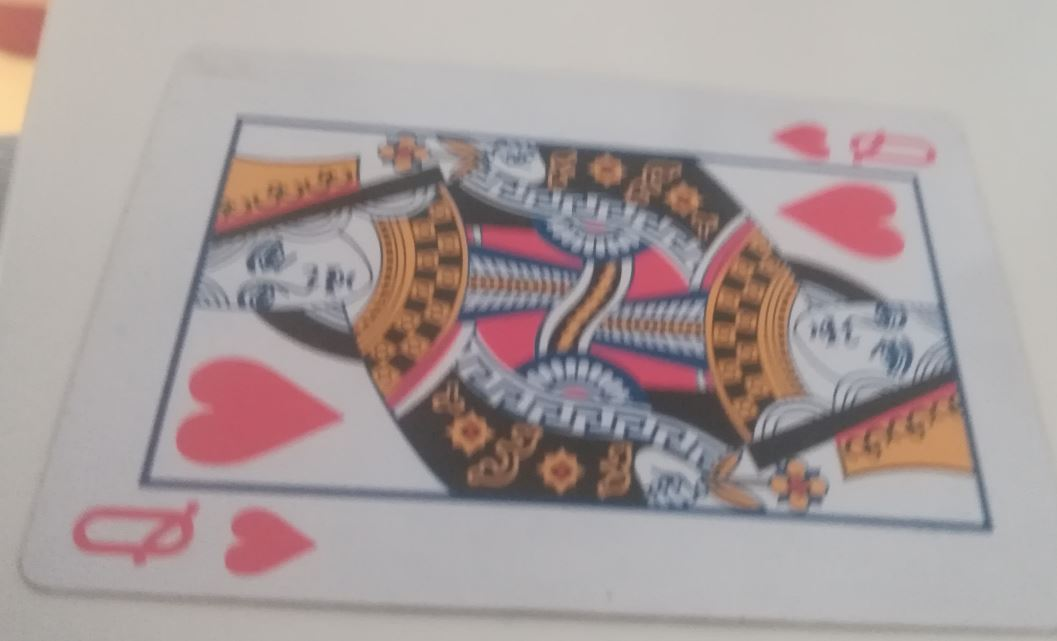QH: (20, 54, 1052, 626)
